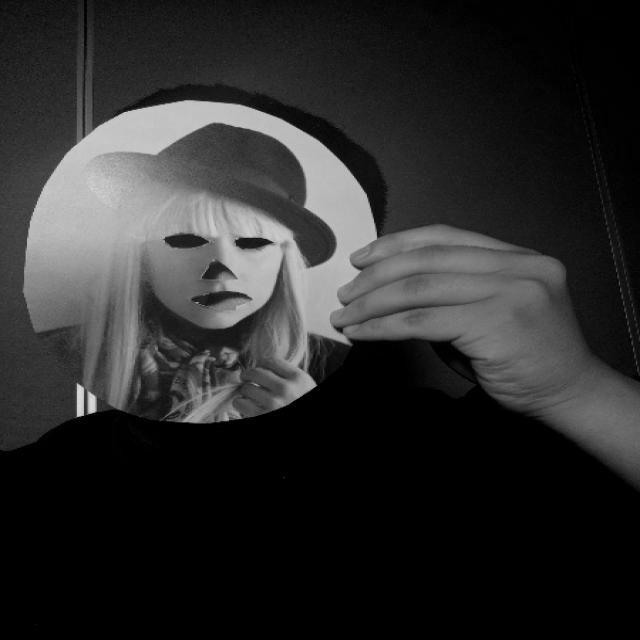fake: (18, 100, 386, 429)
